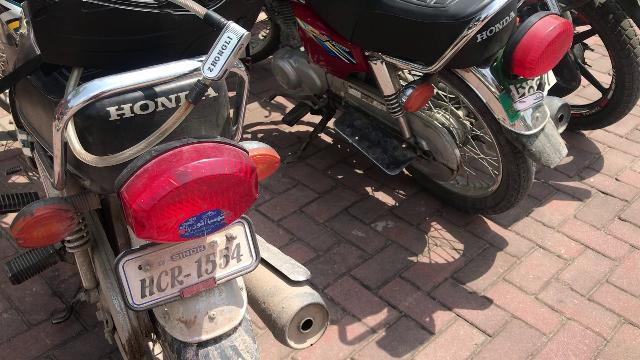plate: (119, 217, 261, 311)
